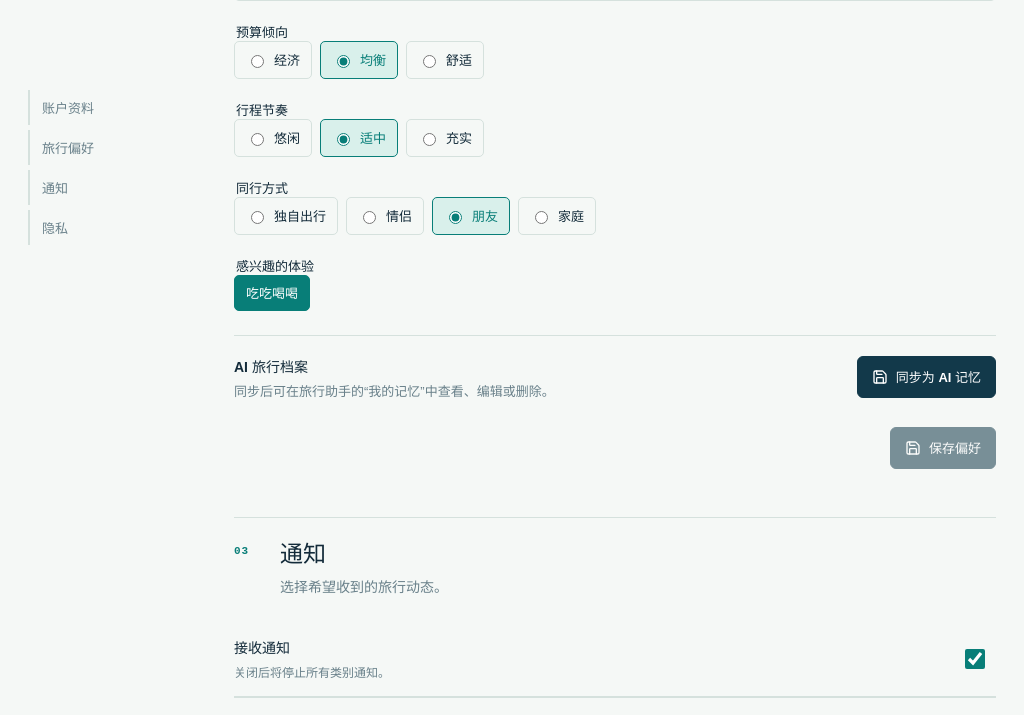
it: SettingsPage › syncs travel settings only after an explicit click
This screenshot has width=1024, height=715.
(page scrolled)
Click the button with test id "sync-ai-memory". click: (926, 377)
box: [857,356,996,398]
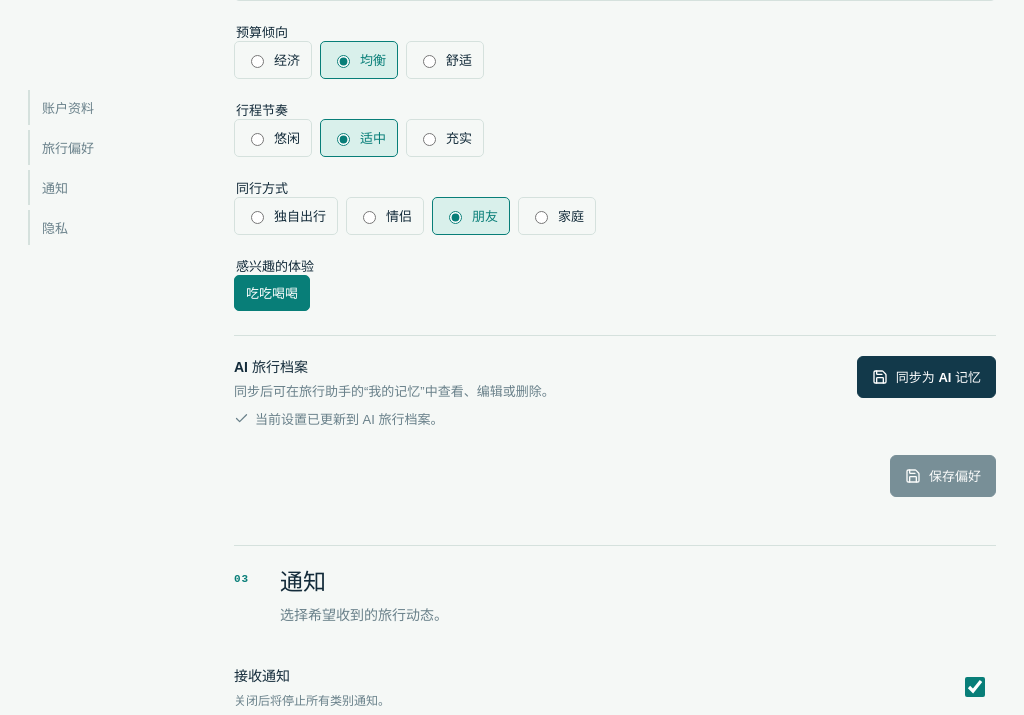
Expected: the text "当前设置已更新到 AI 旅行档案。" is shown, [234,411,444,427]
